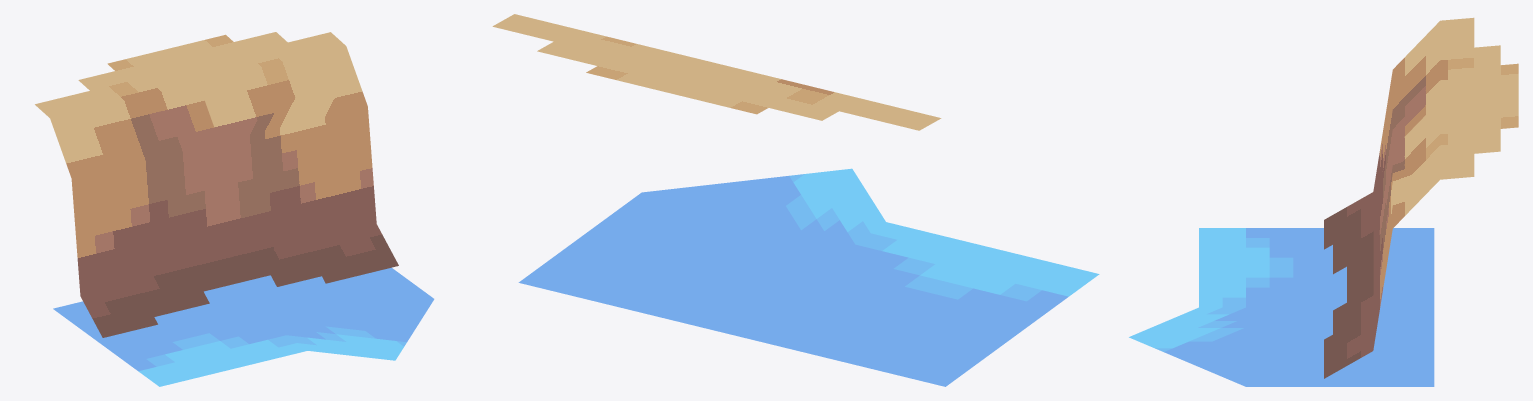
3 renders of one model, left to right at view 1: azimuth 30°, elevation 25°; view 2: azimuth 150°, elevation 25°; view 3: azimuth 270°, elevation 25°, orthographic. The views are drawn at different scales.
Bounding box in the file's own units: 1 × 0.627 × 1.04.
Materials: 2 (2 with a texture image).
